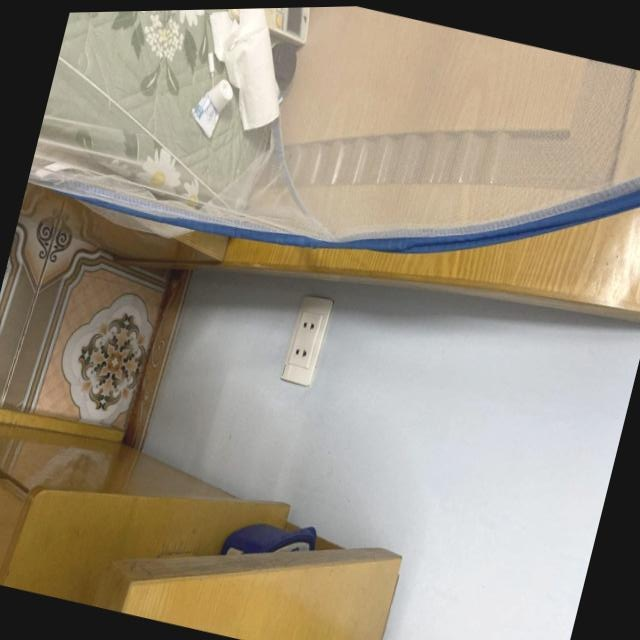outlet: (280, 291, 336, 388)
